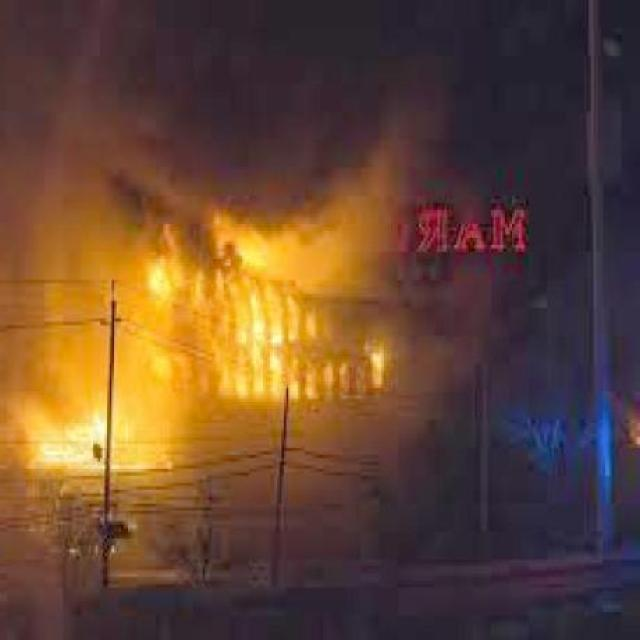Fire: (150, 217, 394, 422), (36, 412, 178, 480)
Smoke: (27, 99, 155, 282), (302, 180, 483, 284), (396, 302, 524, 414)
